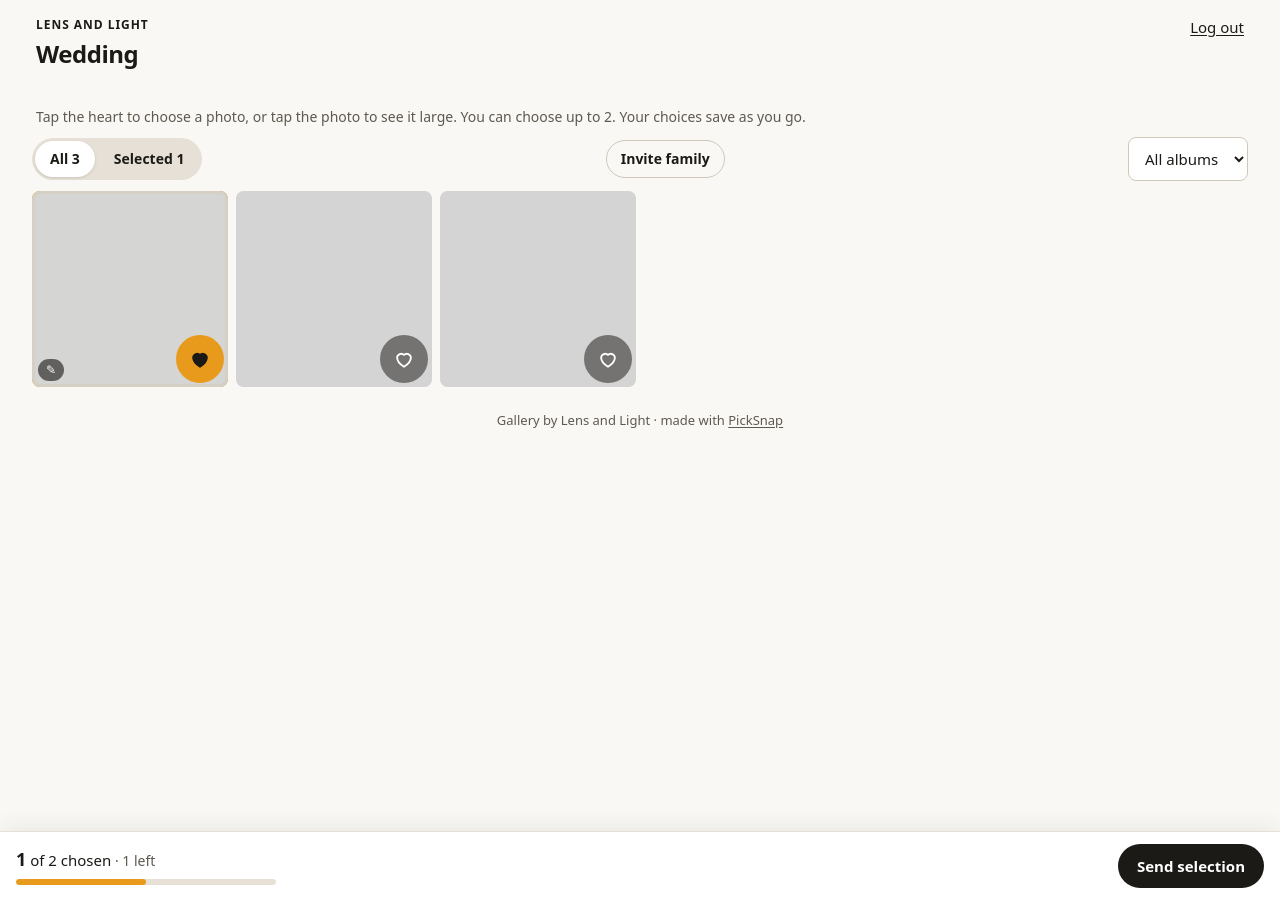
it: choosing photos › puts the heart back and explains when the limit refuses a photo
Click the 2nd button named "Add to selection" at (608, 359), box left=584, top=335, right=632, bottom=383
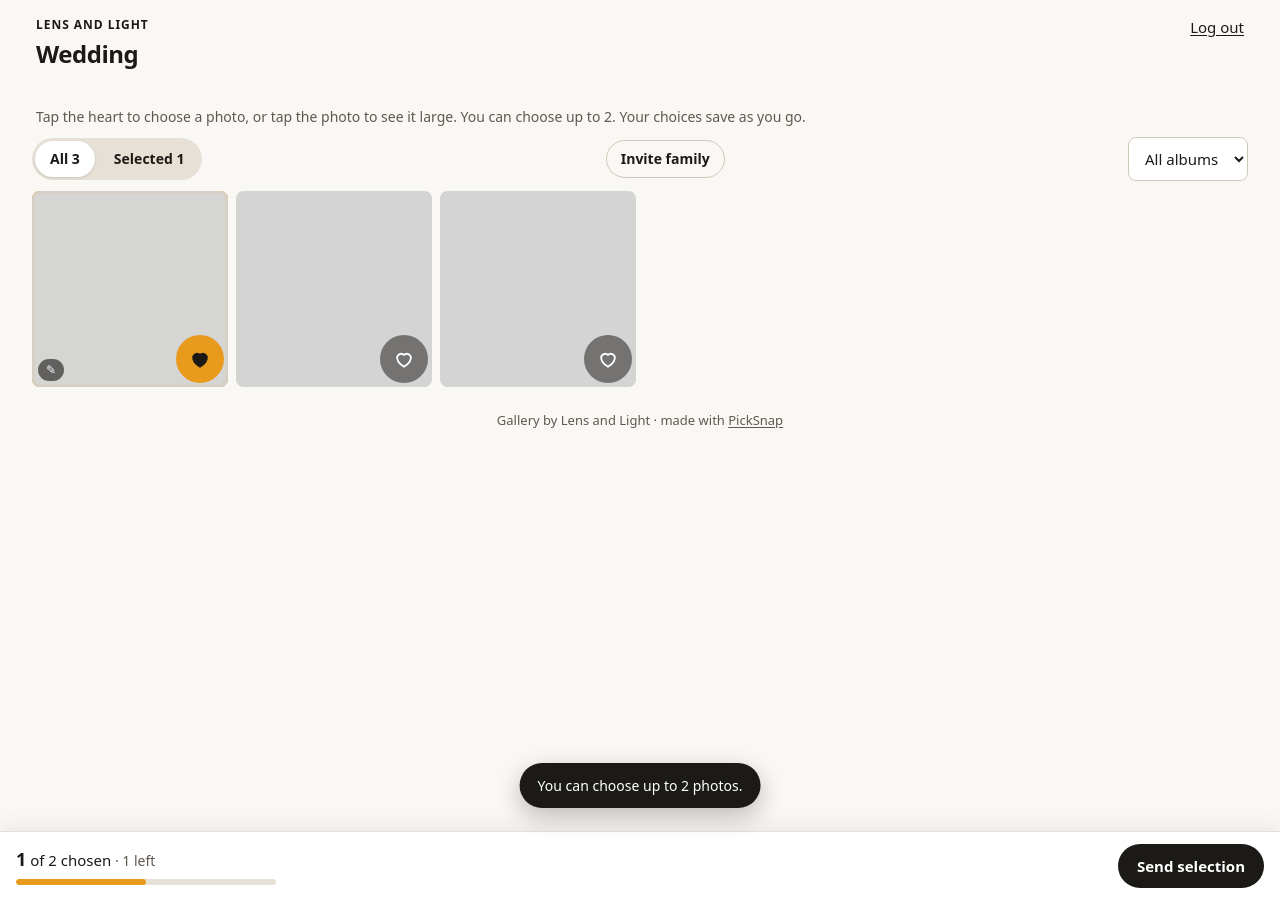
Check: the number of buttons named "Add to selection" is 2, box left=380, top=335, right=428, bottom=383; left=584, top=335, right=632, bottom=383
Check: the message reads "You can choose up to 2 photos.", box left=538, top=776, right=742, bottom=795
